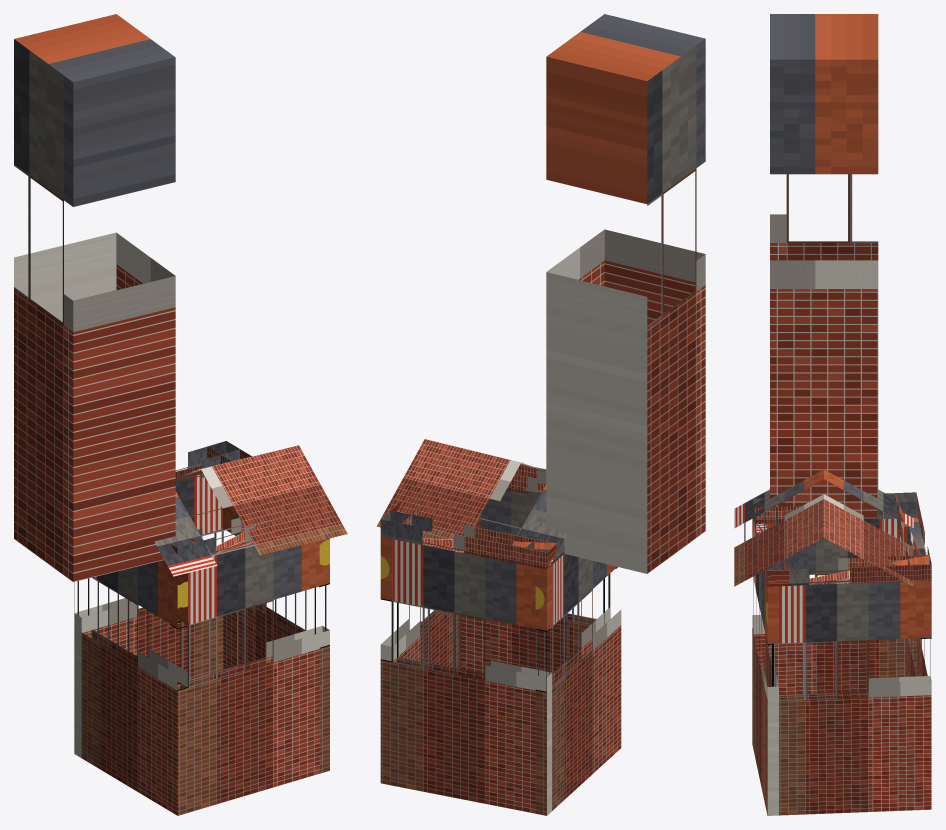
3 renders of one model, left to right at view 1: azimuth 30°, elevation 25°; view 2: azimuth 150°, elevation 25°; view 3: azimuth 270°, elevation 25°, orthographic. The views are drawn at different scales.
Parts seen in each view (by area): view 1: 594796550__chimney_0_xb, 594796550__wall_0_xb, 594796550__wall_3_xb, 594796550_roof_-1_xb, 594796550__wall_2_xb, 594796550__wall_1_xb, 594796550__cornice_0, 594796550__cornice_2; view 2: 594796550__chimney_0_xb, 594796550__wall_2_xb, 594796550__wall_3_xb, 594796550_roof_1_xb, 594796550__wall_0_xb, 594796550__cornice_2, 594796550__wall_1_xb, 594796550__cornice_0; view 3: 594796550__chimney_0_xb, 594796550__wall_1_xb, 594796550__wall_3_xb, 594796550__wall_0_xb, 594796550_roof_-1_xb, 594796550_roof_1_xb, 594796550__cornice_1, 594796550__cornice_3, 594796550__wall_2_xb, 594796550__cornice_0, 594796550__cornice_2.
Boxes of the visible parts, left/top/right/bottom form: 594796550__chimney_0_xb: left=14, top=14, right=175, bottom=581; 594796550__wall_0_xb: left=170, top=538, right=329, bottom=815; 594796550__wall_3_xb: left=77, top=560, right=187, bottom=815; 594796550_roof_-1_xb: left=154, top=445, right=347, bottom=576; 594796550__wall_2_xb: left=74, top=468, right=223, bottom=757; 594796550__wall_1_xb: left=222, top=506, right=329, bottom=773; 594796550__cornice_0: left=177, top=513, right=295, bottom=554; 594796550__cornice_2: left=175, top=441, right=239, bottom=483; 594796550__chimney_0_xb: left=546, top=14, right=705, bottom=573; 594796550__wall_2_xb: left=380, top=539, right=551, bottom=815; 594796550__wall_3_xb: left=535, top=554, right=621, bottom=815; 594796550_roof_1_xb: left=376, top=439, right=566, bottom=567; 594796550__wall_0_xb: left=461, top=490, right=617, bottom=674; 594796550__cornice_2: left=380, top=510, right=556, bottom=569; 594796550__wall_1_xb: left=380, top=537, right=460, bottom=668; 594796550__cornice_0: left=506, top=466, right=546, bottom=494; 594796550__chimney_0_xb: left=770, top=14, right=878, bottom=518; 594796550__wall_1_xb: left=766, top=579, right=931, bottom=815; 594796550__wall_3_xb: left=752, top=518, right=917, bottom=694; 594796550__wall_0_xb: left=752, top=521, right=778, bottom=815; 594796550_roof_-1_xb: left=734, top=469, right=823, bottom=586; 594796550_roof_1_xb: left=824, top=469, right=913, bottom=586; 594796550__cornice_1: left=767, top=555, right=931, bottom=585; 594796550__cornice_3: left=754, top=492, right=918, bottom=523; 594796550__wall_2_xb: left=906, top=518, right=931, bottom=676; 594796550__cornice_0: left=752, top=498, right=788, bottom=586; 594796550__cornice_2: left=894, top=493, right=929, bottom=564.
Bounding box in the file's own units: 0.3742 × 1.05 × 0.2729.
Materials: 1 (1 with a texture image).
